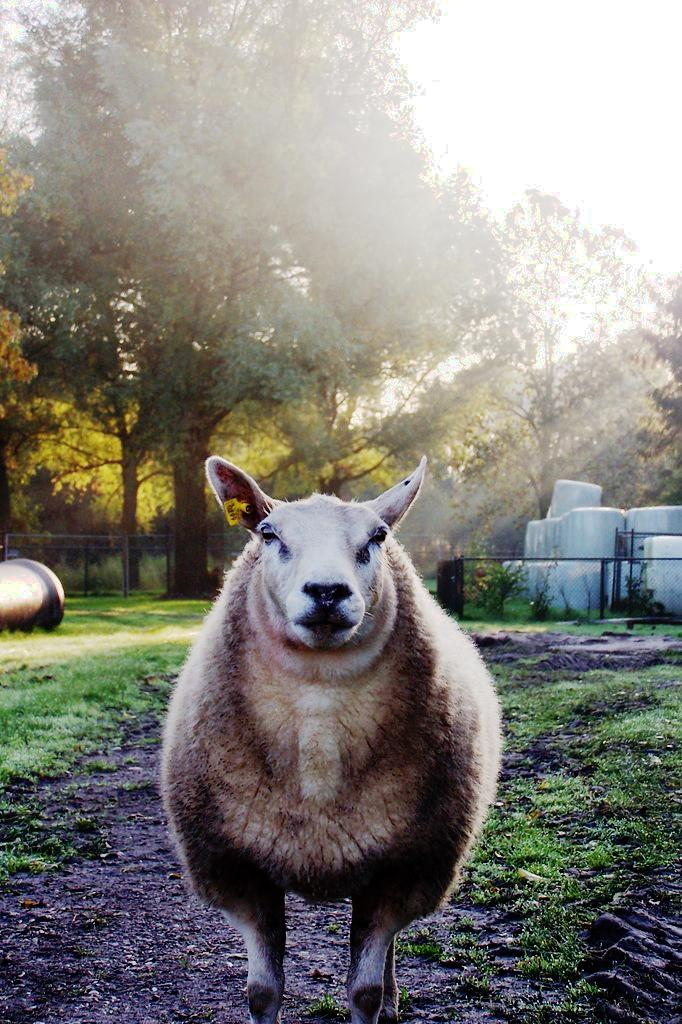Sheep: (162, 458, 508, 1023)
